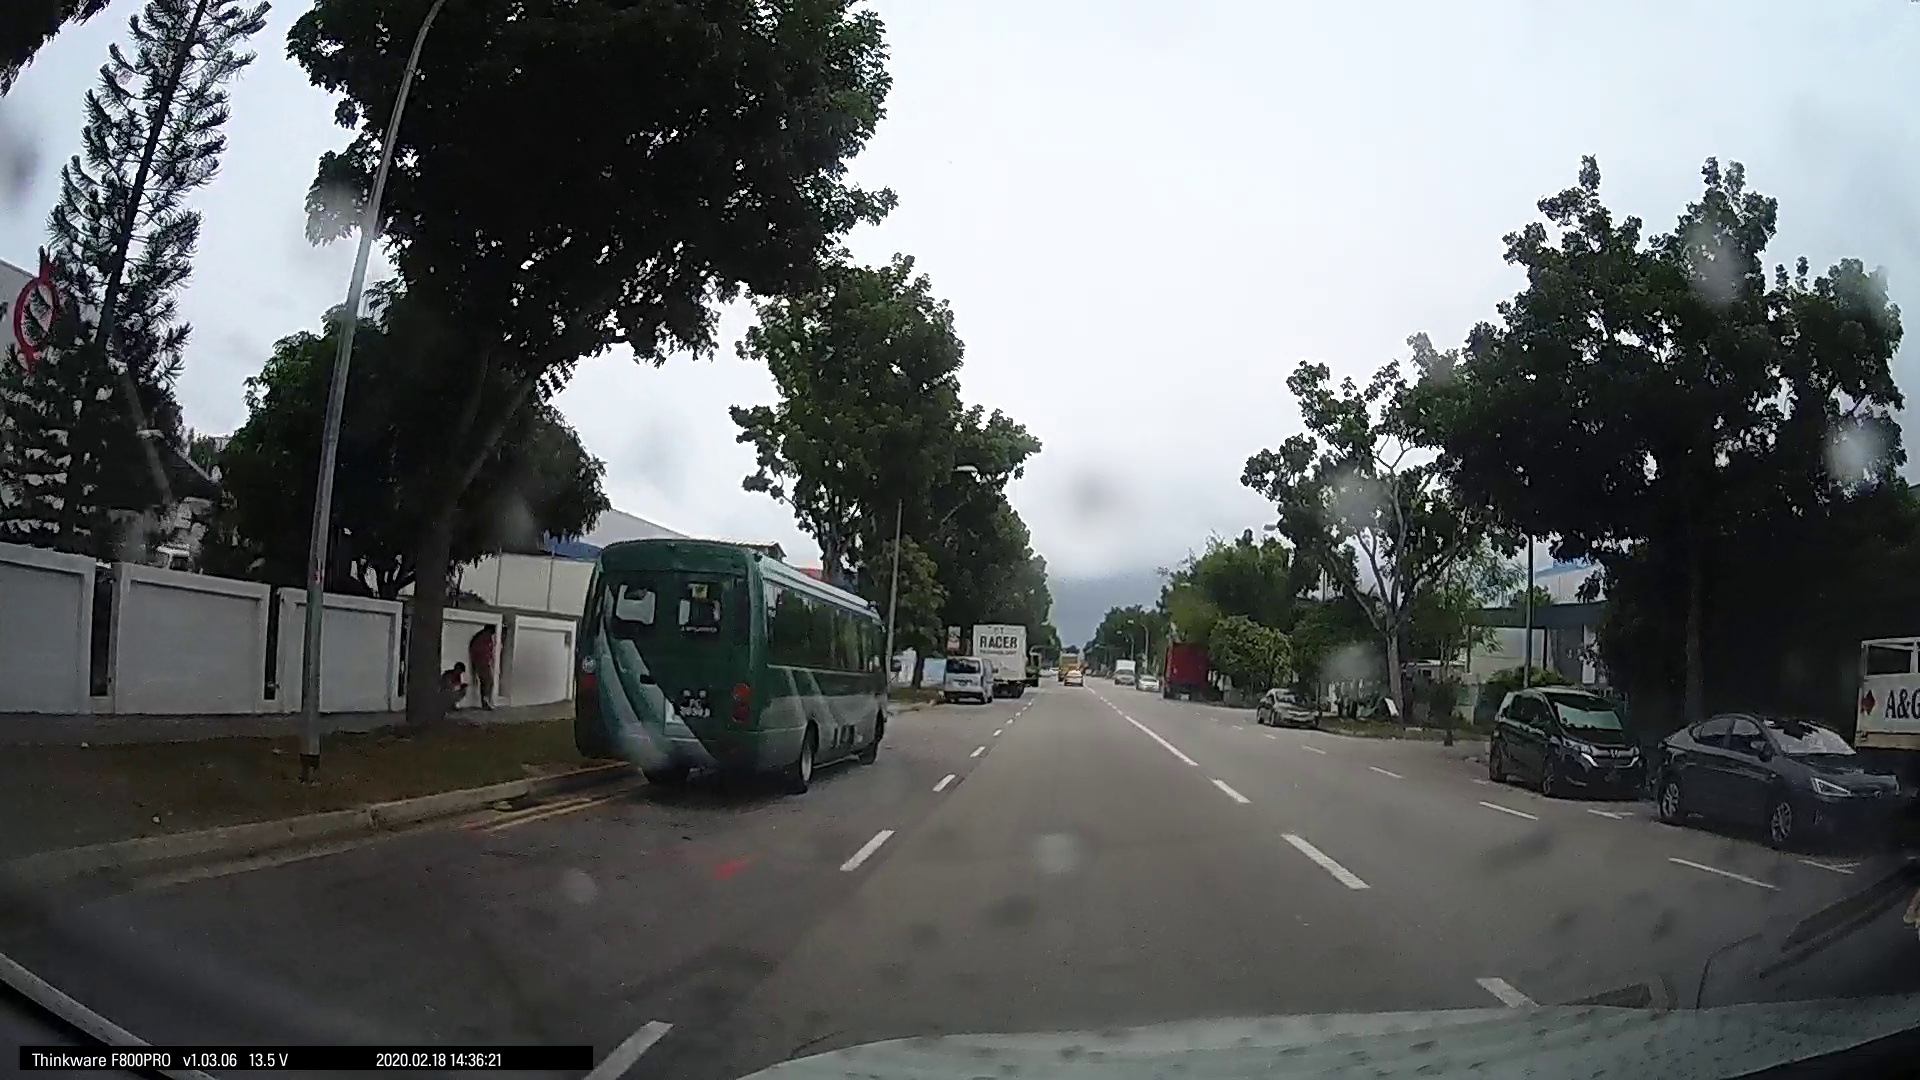Heavy Vehicle: (568, 538, 887, 795), (963, 618, 1033, 698)
Light Vehicle: (1644, 700, 1892, 852), (1480, 683, 1642, 800), (934, 651, 997, 703), (1254, 684, 1317, 731)
